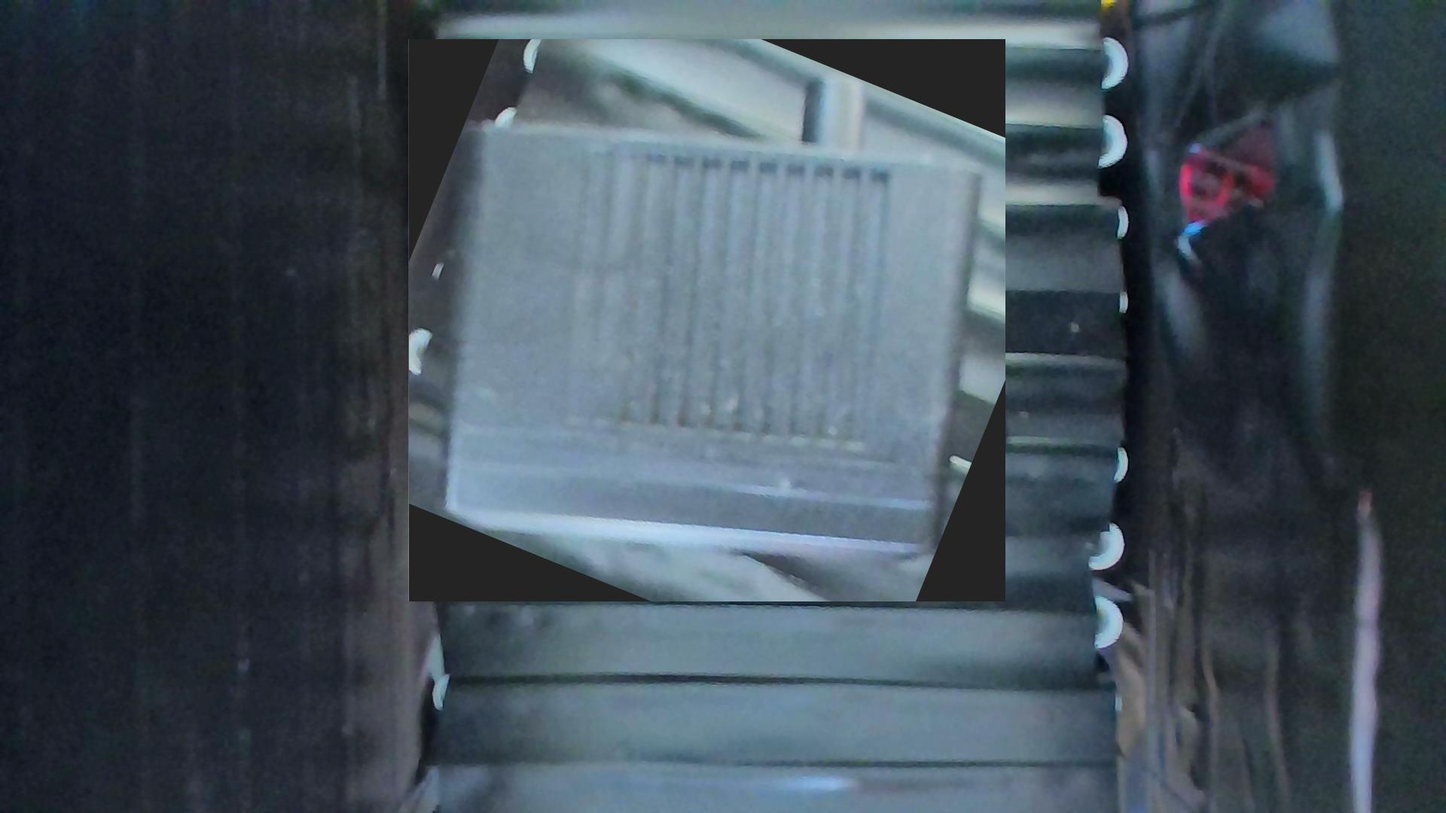motor: (408, 39, 1005, 602)
